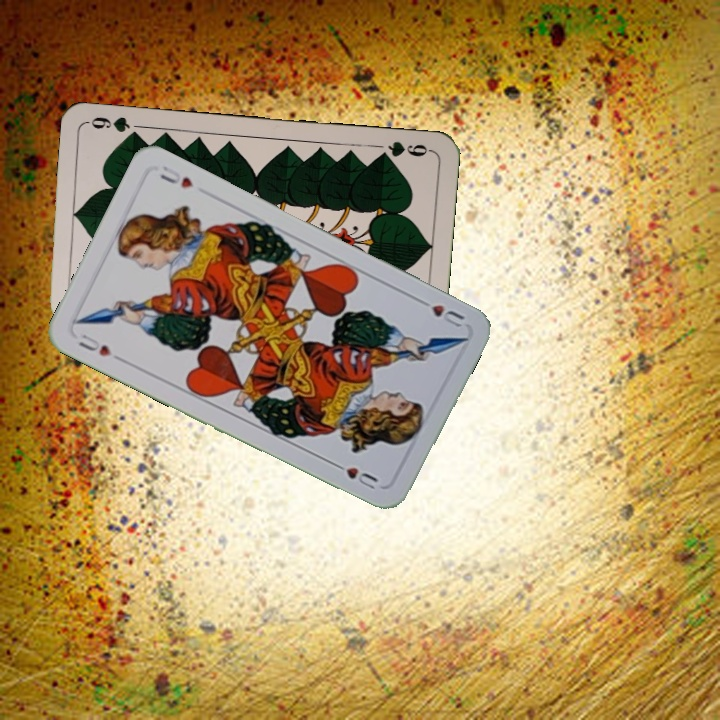G9: (374, 137, 434, 162)
HU: (413, 294, 467, 330), (73, 330, 125, 364)
